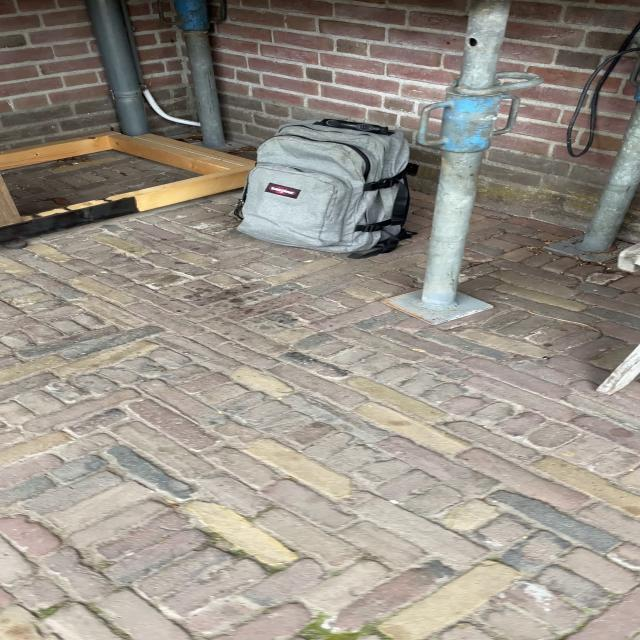backpack: (227, 112, 421, 259)
